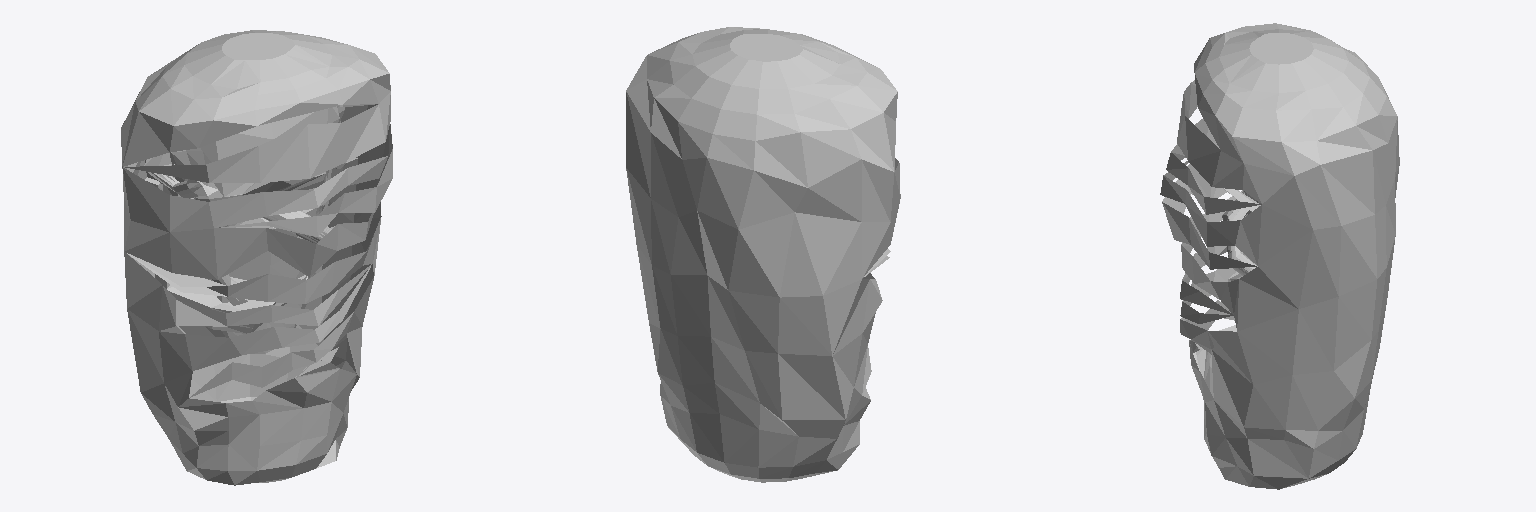
The model's file is Golem.obj.
The picture shows the model from 3 angles: view 1: azimuth 30°, elevation 25°; view 2: azimuth 150°, elevation 25°; view 3: azimuth 270°, elevation 25°; orthographic projection.
Parts seen in each view (by area): view 1: Cylinder; view 2: Cylinder; view 3: Cylinder.
Part boxes in pixels (x1,y1,x2,y2): Cylinder: (121,30,392,485); Cylinder: (626,27,900,482); Cylinder: (1160,23,1399,489).
Bounding box in the file's own units: 1.61 × 2.46 × 1.28.